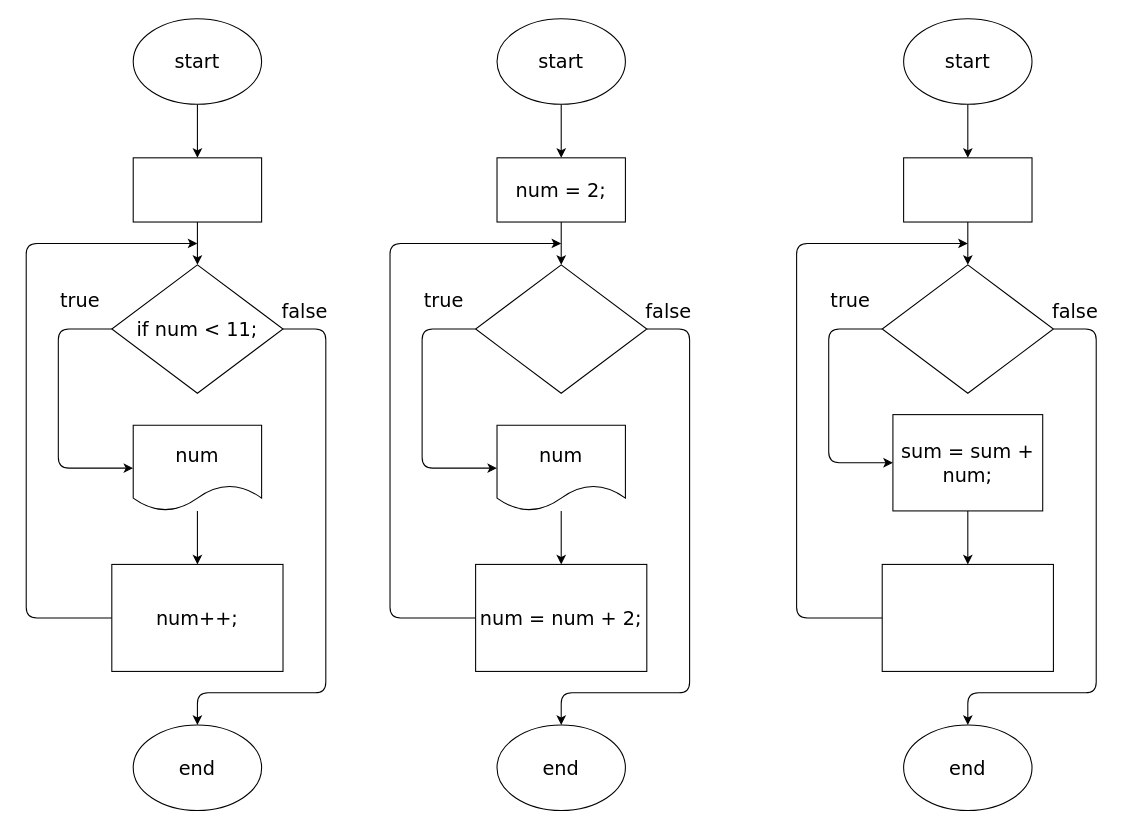
This 1131x829 diagram has some shape labels left out. Each missing label, with the centre of its shape:
if num < 101;: point (967, 328)
if num < = 20;: point (561, 328)
num = 1;: point (197, 189)
num = 1; sum = 0;: point (967, 189)
num = num++;: point (967, 617)
